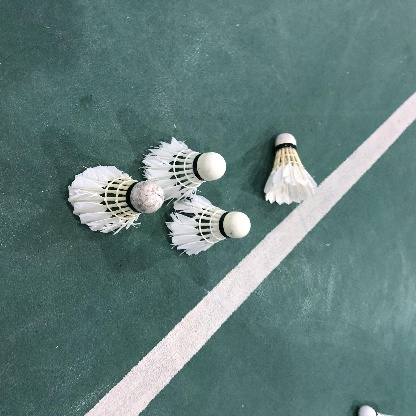ball_single: (68, 165, 164, 233), (143, 137, 226, 203), (165, 194, 251, 256), (264, 133, 318, 205), (357, 406, 394, 416)
